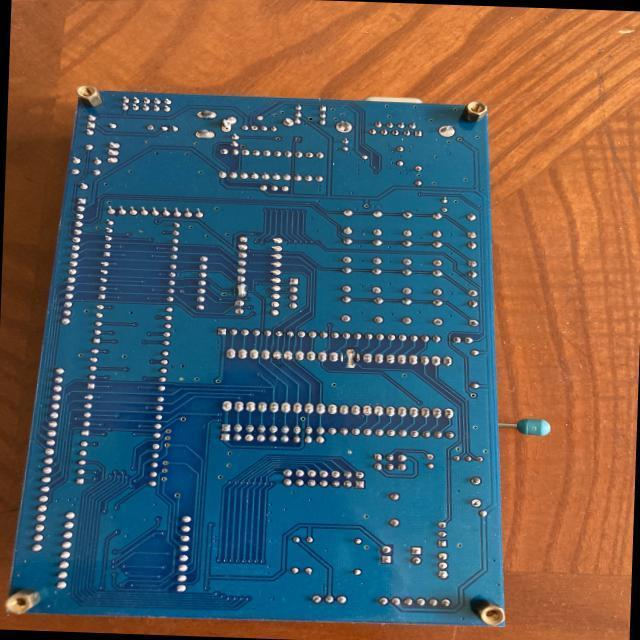damged: (342, 348, 359, 366), (234, 282, 248, 298)
